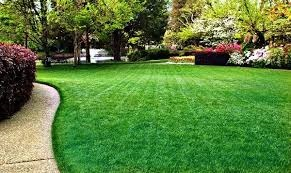grass: (52, 64, 289, 170)
